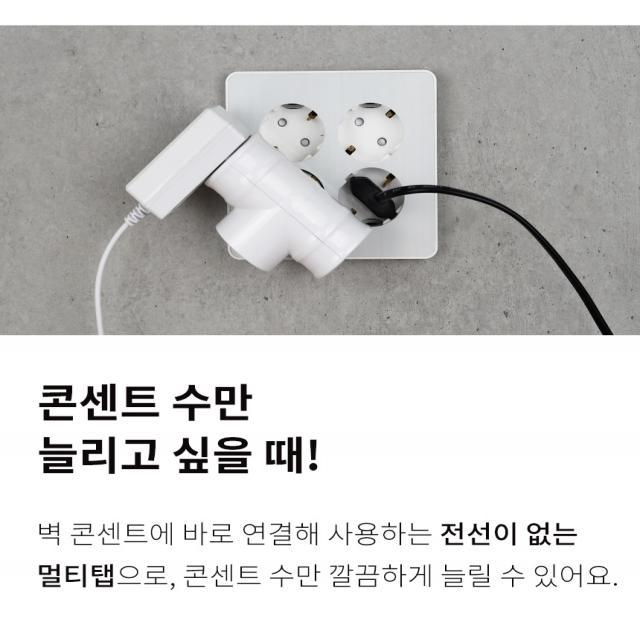typeb: (166, 72, 491, 312)
